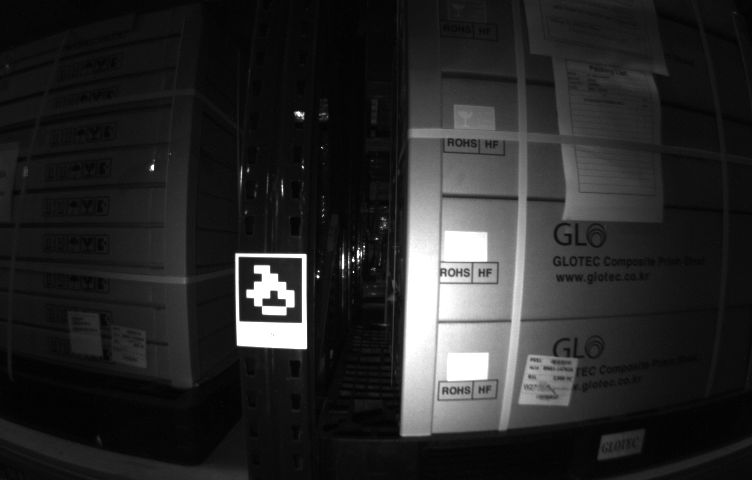True Barcode: (520, 354, 578, 408), (108, 325, 147, 366)
